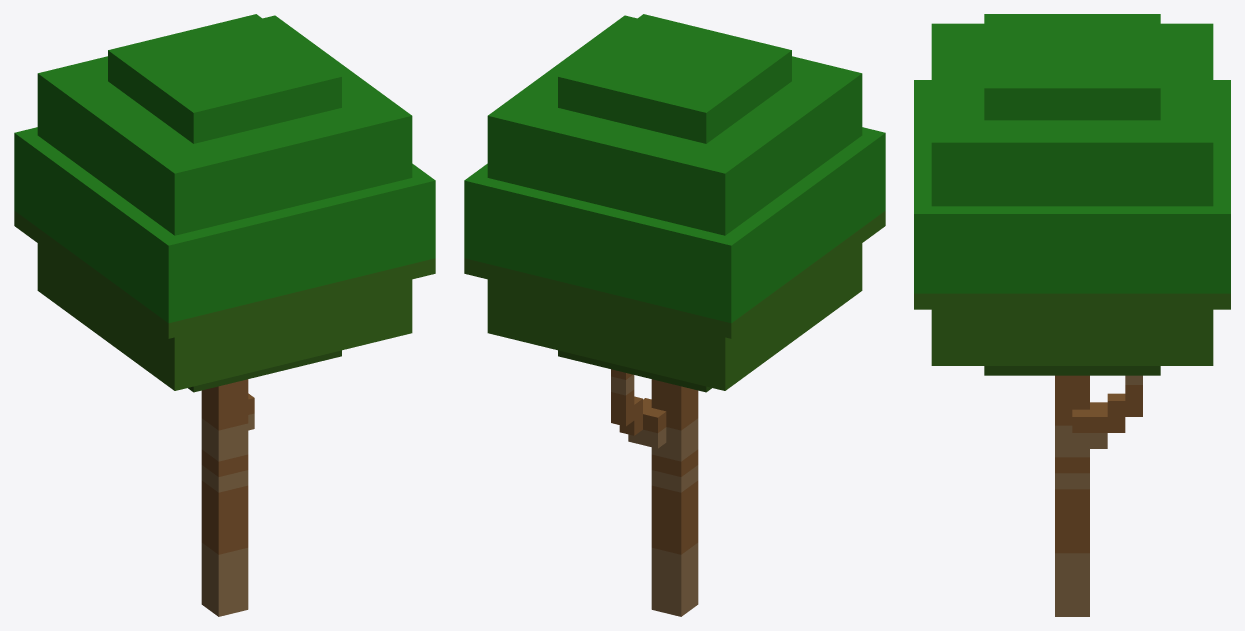
File: Boom3.fbx
3 views of the same model, side by side, from view 1: azimuth 30°, elevation 25°; view 2: azimuth 150°, elevation 25°; view 3: azimuth 270°, elevation 25° (orthographic). The views are drawn at different scales.
Parts seen in each view (by area): view 1: Boom3:Boom3; view 2: Boom3:Boom3; view 3: Boom3:Boom3.
Part boxes in pixels (x1=…): Boom3:Boom3: x1=14, y1=14, x2=435, y2=616; Boom3:Boom3: x1=464, y1=14, x2=885, y2=616; Boom3:Boom3: x1=914, y1=14, x2=1230, y2=616.
Bounding box in the file's own units: 18 × 35 × 18.
Materials: 1 (1 with a texture image).
